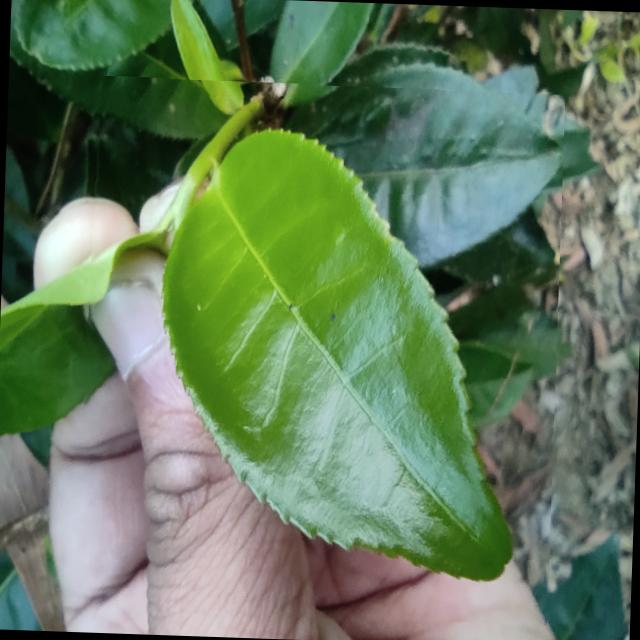Category C(4-7 days): (71, 74, 565, 624)
